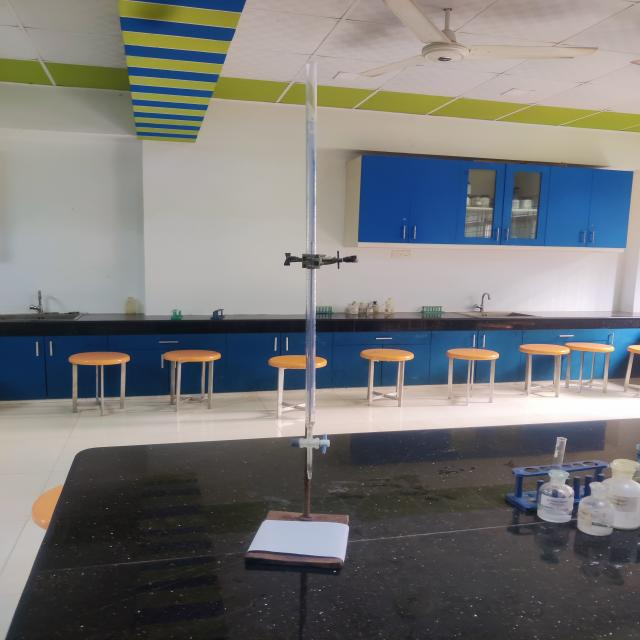Burette_Stands: (226, 222, 388, 597)
